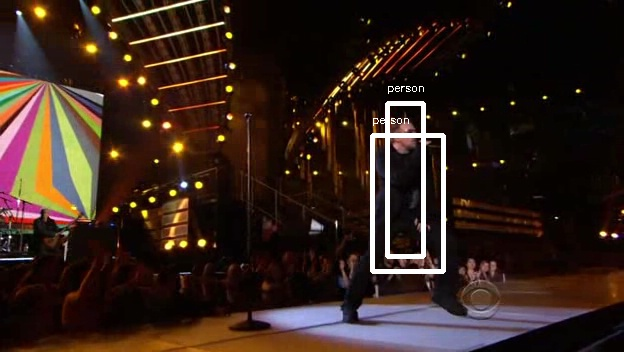person: (368, 121, 440, 250), (365, 121, 437, 250), (371, 121, 443, 250), (368, 118, 440, 247), (368, 124, 440, 253)
target_negative: (233, 114, 357, 216), (303, 54, 487, 94), (29, 141, 156, 189), (225, 341, 475, 352), (76, 312, 285, 316), (623, 303, 624, 351)
